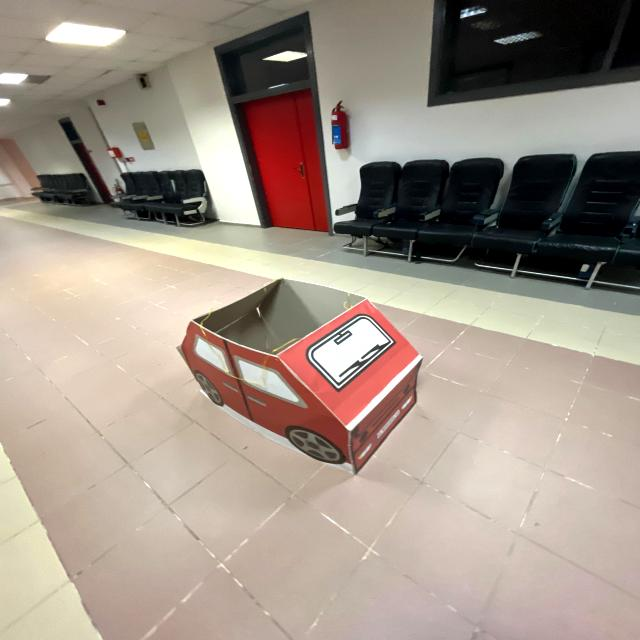red_car: (160, 272, 444, 487)
